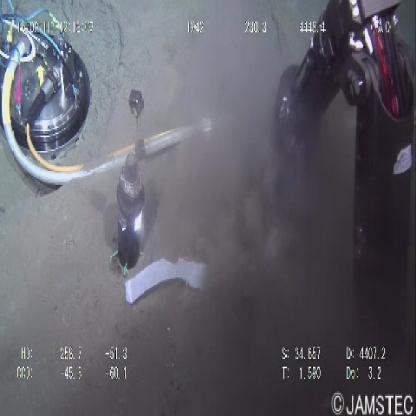Rov: (270, 2, 416, 186), (1, 2, 93, 194), (106, 81, 146, 276)
Rác: (119, 248, 233, 311)
